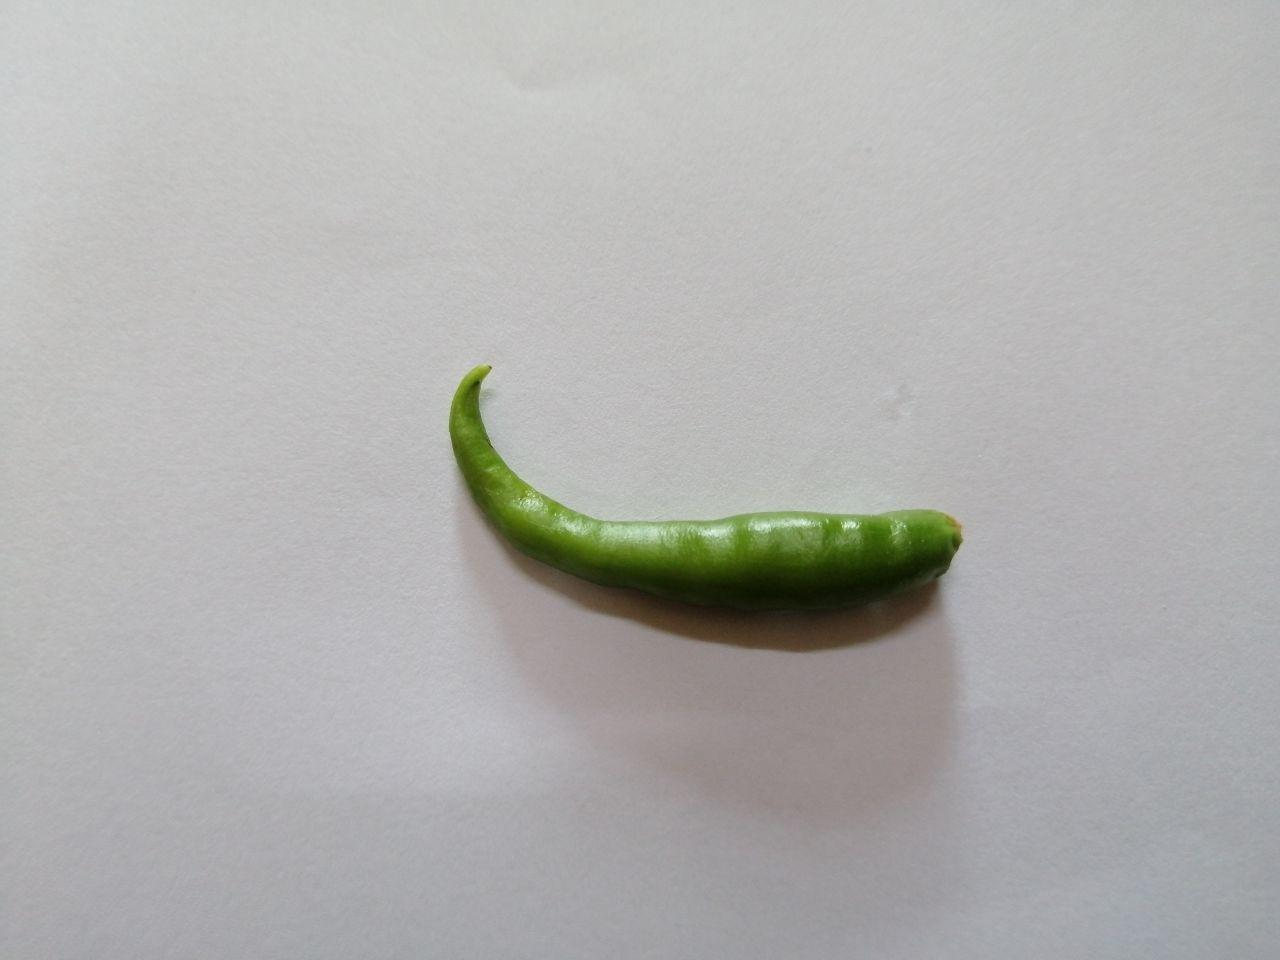lada hijau: (430, 353, 985, 653)
